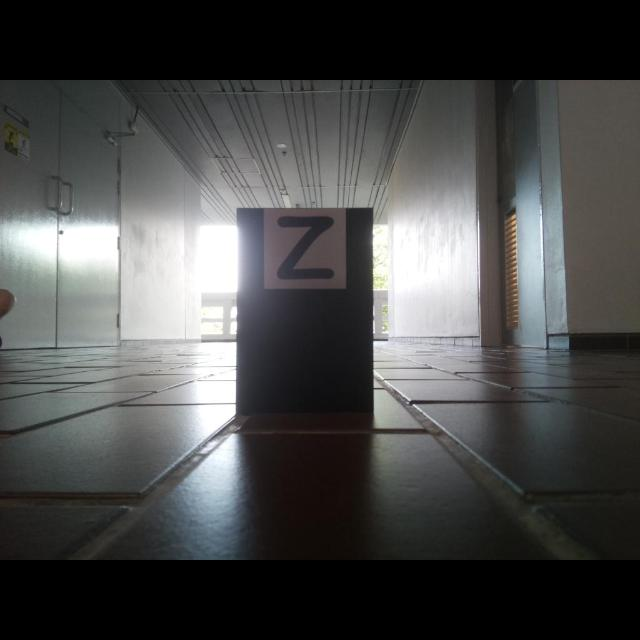Z: (277, 216, 334, 279)
